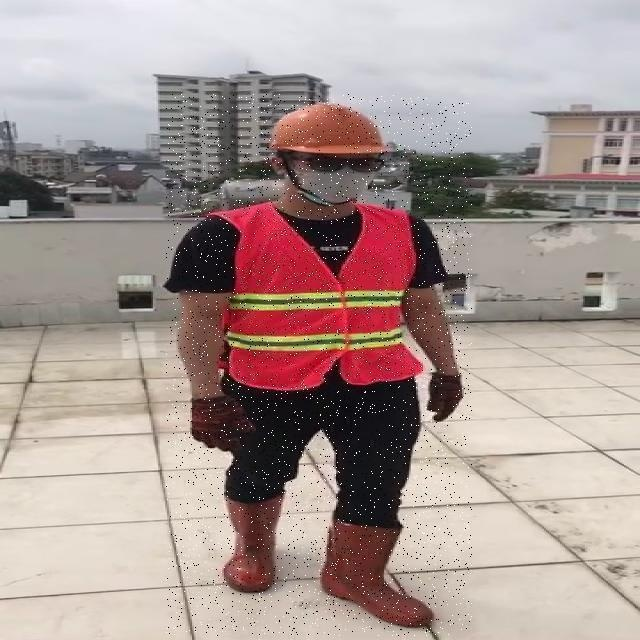Gafas: (275, 151, 387, 174)
Guantes: (191, 394, 262, 458), (425, 368, 467, 427)
